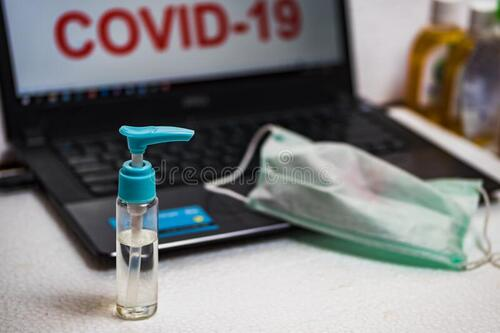sanitizer: (111, 122, 194, 321)
